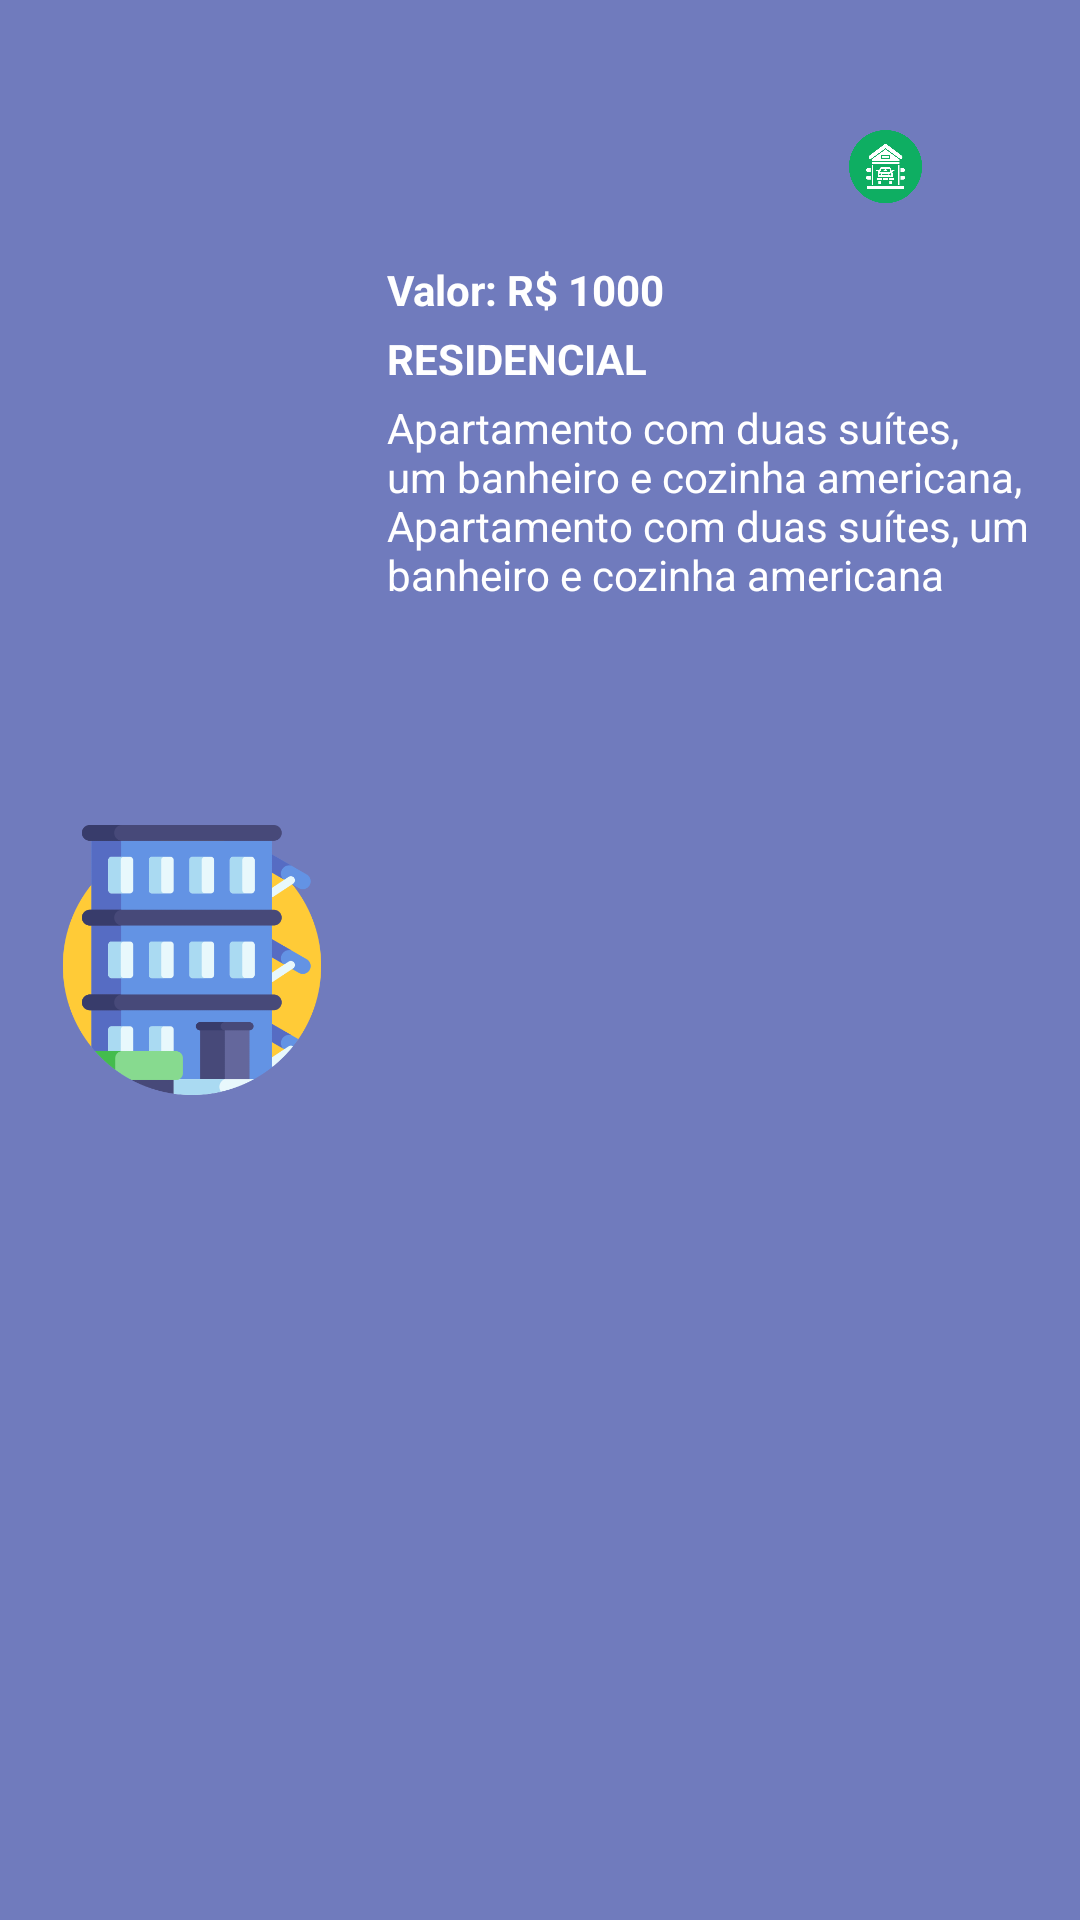

Screen size 1080 x 1920. Icon name, then its box in pixels as box(x1, y1, x2, y2):
garage: box(849, 130, 922, 203)
property: box(63, 825, 321, 1095)
